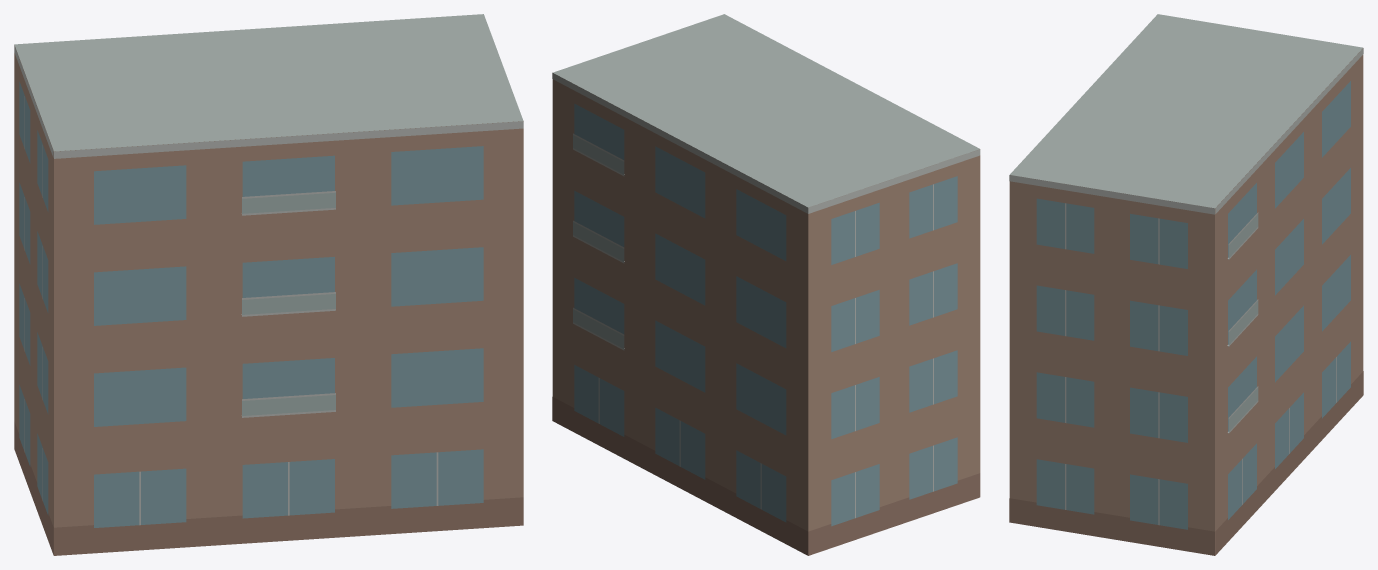
File: survey-upis-32877993.glb
3 renders of one model, left to right at view 1: azimuth 30°, elevation 25°; view 2: azimuth 150°, elevation 25°; view 3: azimuth 270°, elevation 25°, orthographic. The views are drawn at different scales.
Visible parts, largest first — view 1: survey-upis-32877993.tmp; view 2: survey-upis-32877993.tmp; view 3: survey-upis-32877993.tmp.
Boxes of the visible parts, x1=… form: survey-upis-32877993.tmp: x1=14, y1=14, x2=523, y2=555; survey-upis-32877993.tmp: x1=552, y1=14, x2=980, y2=555; survey-upis-32877993.tmp: x1=1009, y1=14, x2=1363, y2=555.
Bounding box in the file's own units: 15.9 × 13.25 × 12.24.
